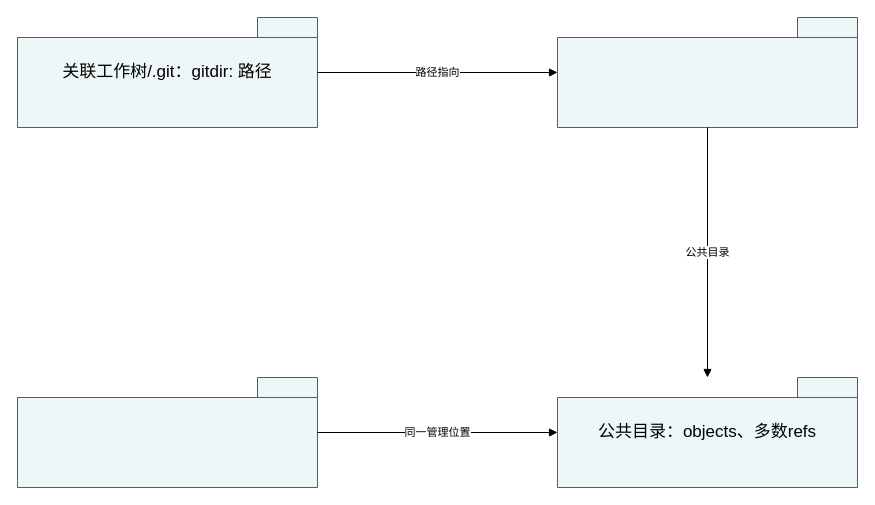
This 875x505 diagram has some shape labels left out. Each missing label, with the box of its shape:
主工作树/.git：常规管理目录: (16, 376, 318, 488)
独立管理目录：HEAD、index、commondir: (556, 16, 858, 128)
